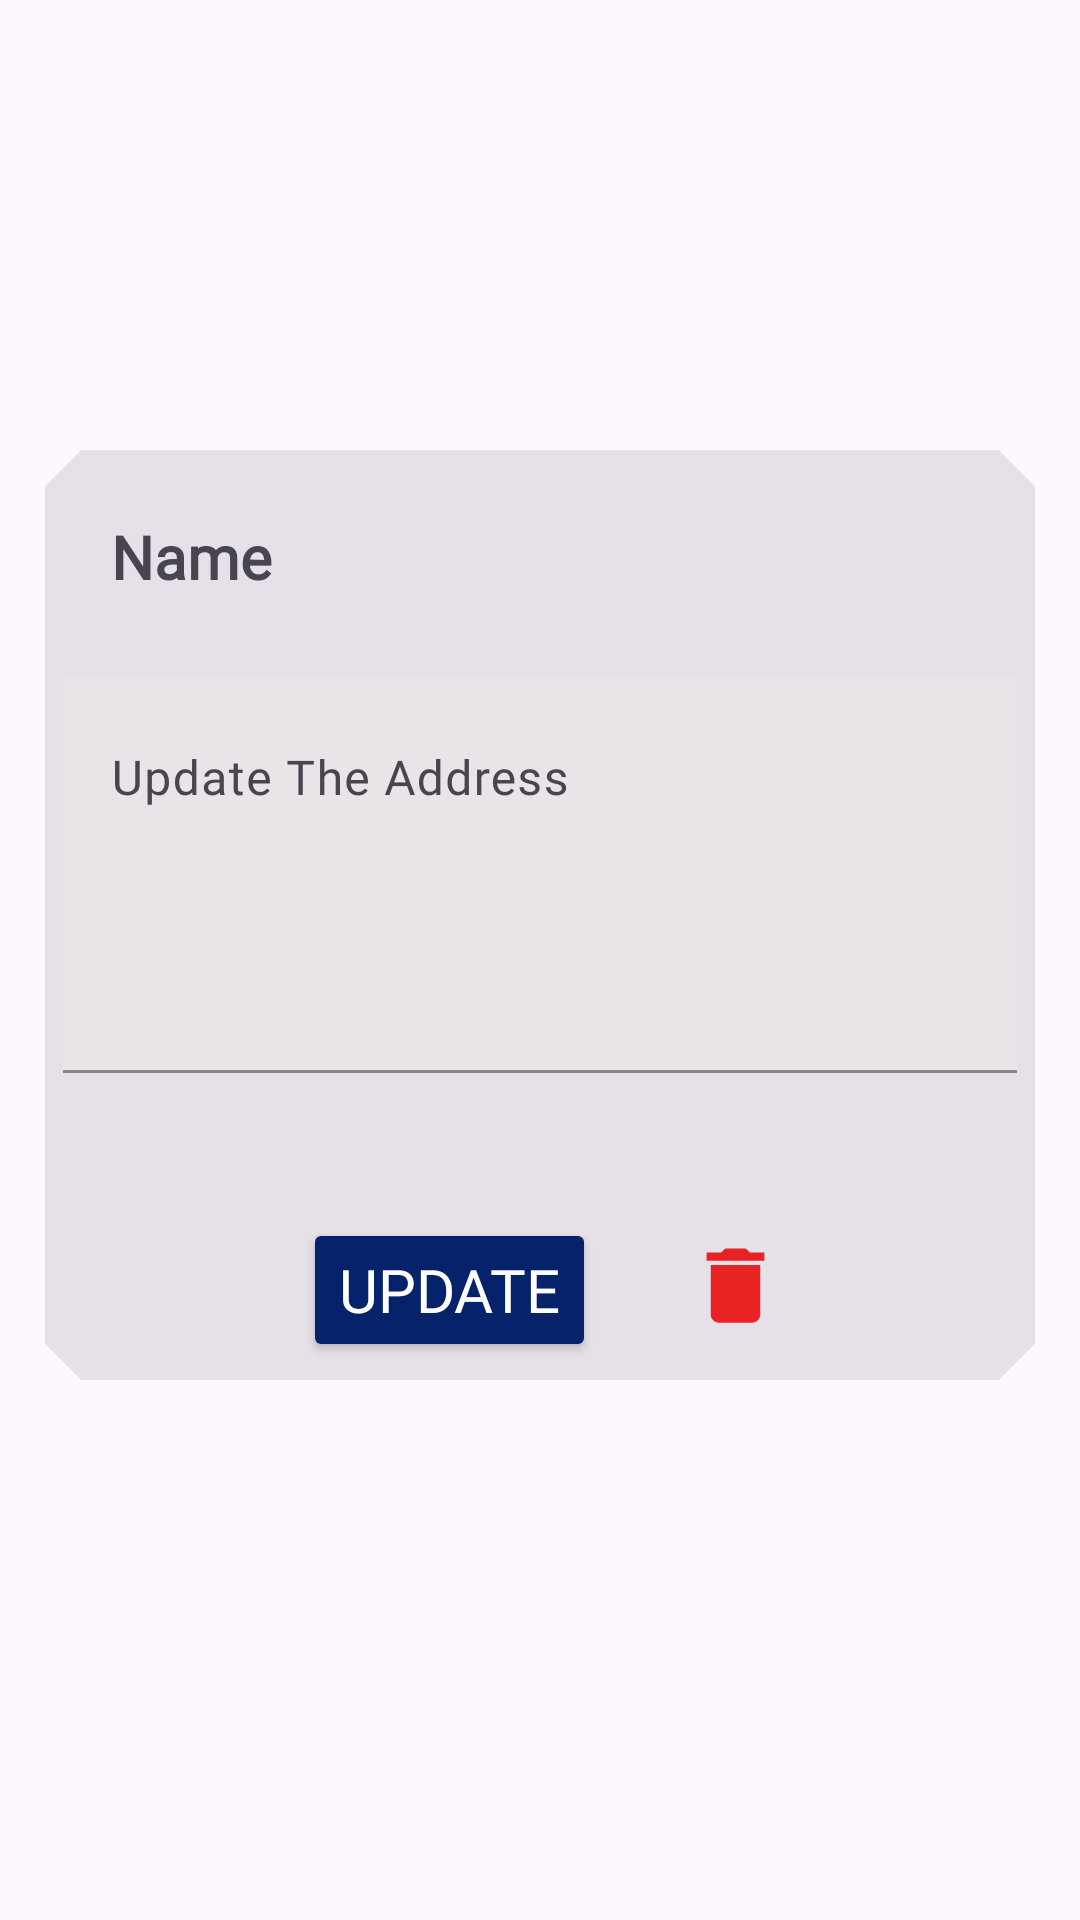

Icons on this 1080w x 1920h Android screen, each with the point to tap as (x=x, y=y):
delete: (x=735, y=1285)
